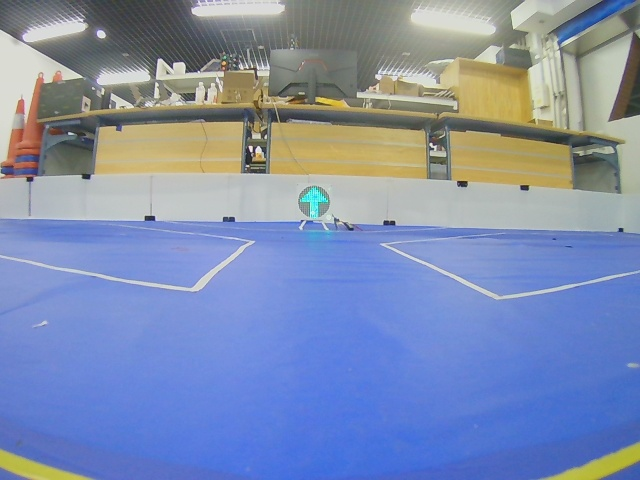straight_green: (298, 186, 330, 219)
